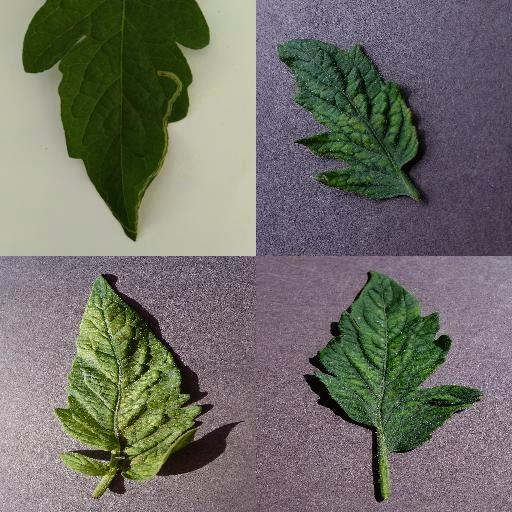Leaf Miner: (22, 0, 210, 244)
Mosaic Virus: (315, 268, 487, 452), (279, 37, 423, 199)
Spider Mites: (55, 274, 201, 480)
